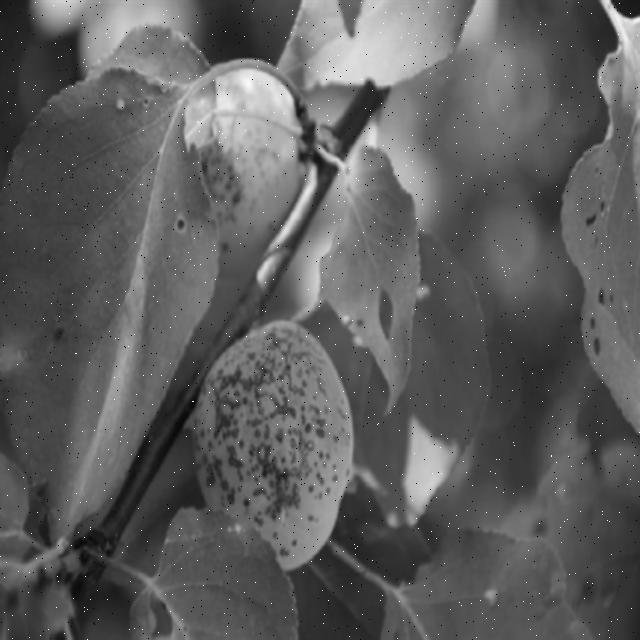Kayisi: (196, 325, 352, 571), (205, 66, 309, 278)
Kayisi Yapragi: (0, 75, 219, 553), (323, 151, 419, 413)
